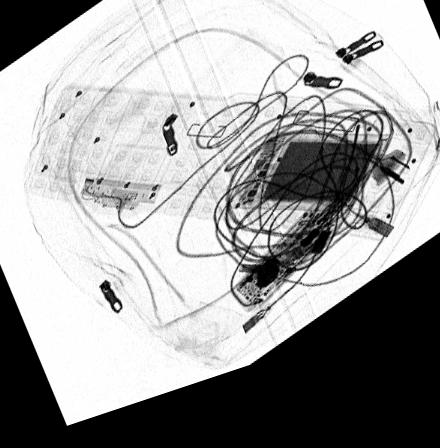Powerbank: (231, 147, 390, 233)
